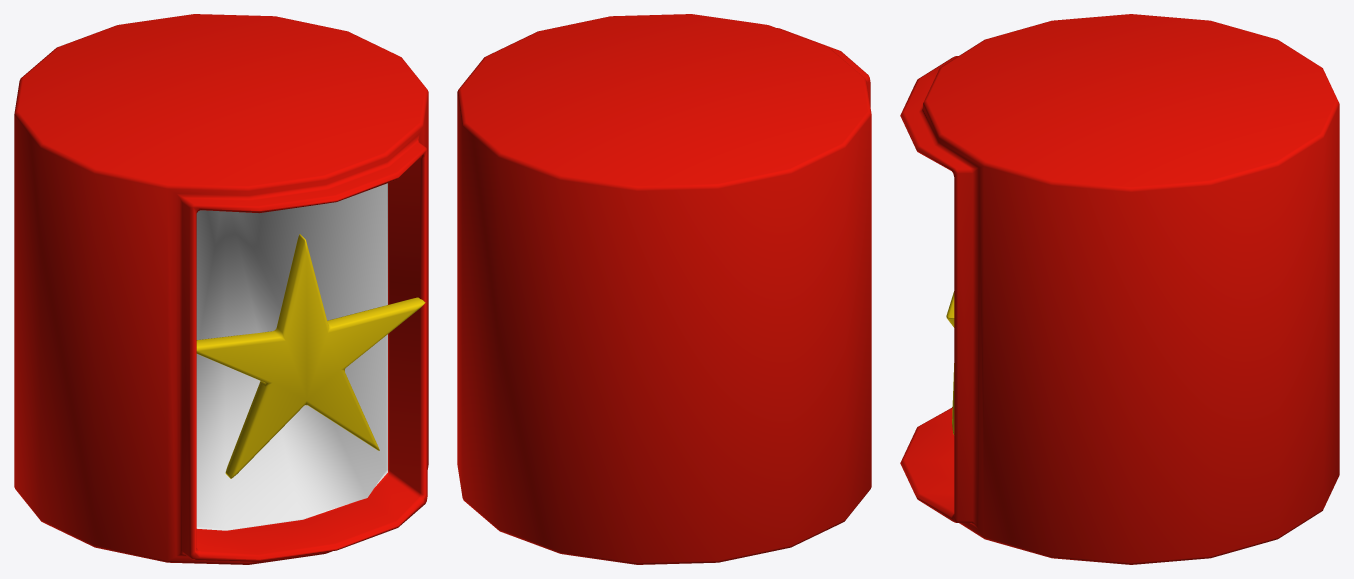
File: HPSilindirik.fbx
3 renders of one model, left to right at view 1: azimuth 30°, elevation 25°; view 2: azimuth 150°, elevation 25°; view 3: azimuth 270°, elevation 25°, orthographic.
Parts seen in each view (by area): view 1: Cylinder; view 2: Cylinder; view 3: Cylinder.
Part boxes in pixels (left/top/right/bottom): Cylinder: left=14, top=14, right=428, bottom=564; Cylinder: left=457, top=14, right=871, bottom=564; Cylinder: left=900, top=14, right=1339, bottom=564.
Bounding box in the file's own units: 200 × 200 × 211.
